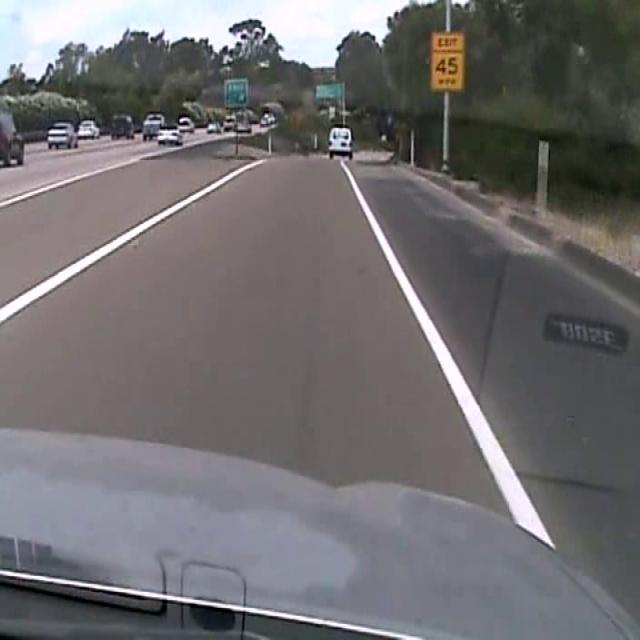speedLimit45: (430, 29, 465, 91)
